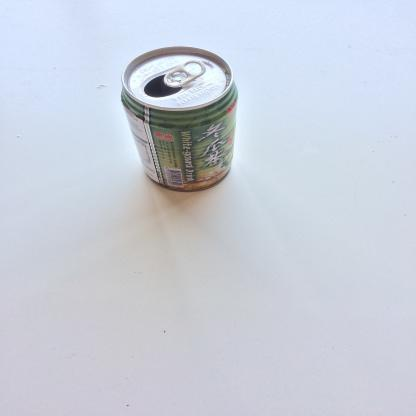trash: (113, 38, 258, 201)
